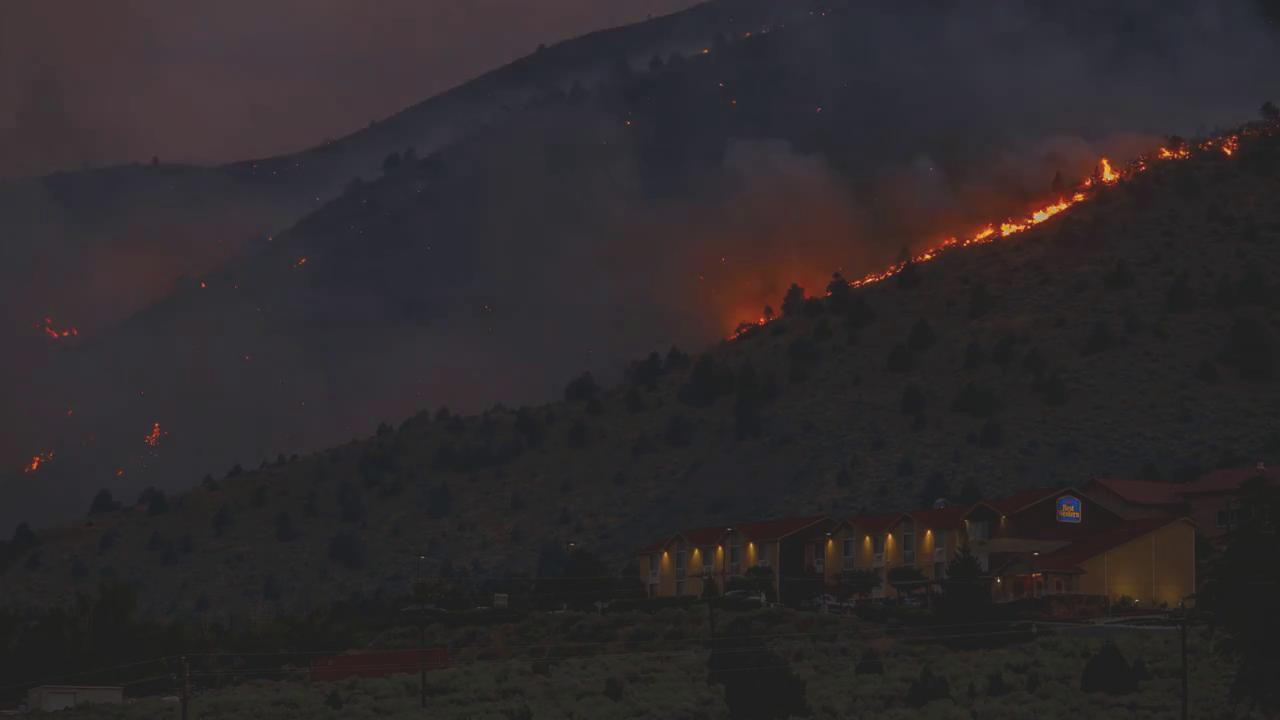fire: (851, 234, 959, 289), (978, 190, 1084, 242), (1150, 140, 1238, 159), (41, 312, 79, 341), (727, 316, 769, 341), (17, 451, 50, 474), (1101, 155, 1124, 182), (141, 420, 165, 444)
